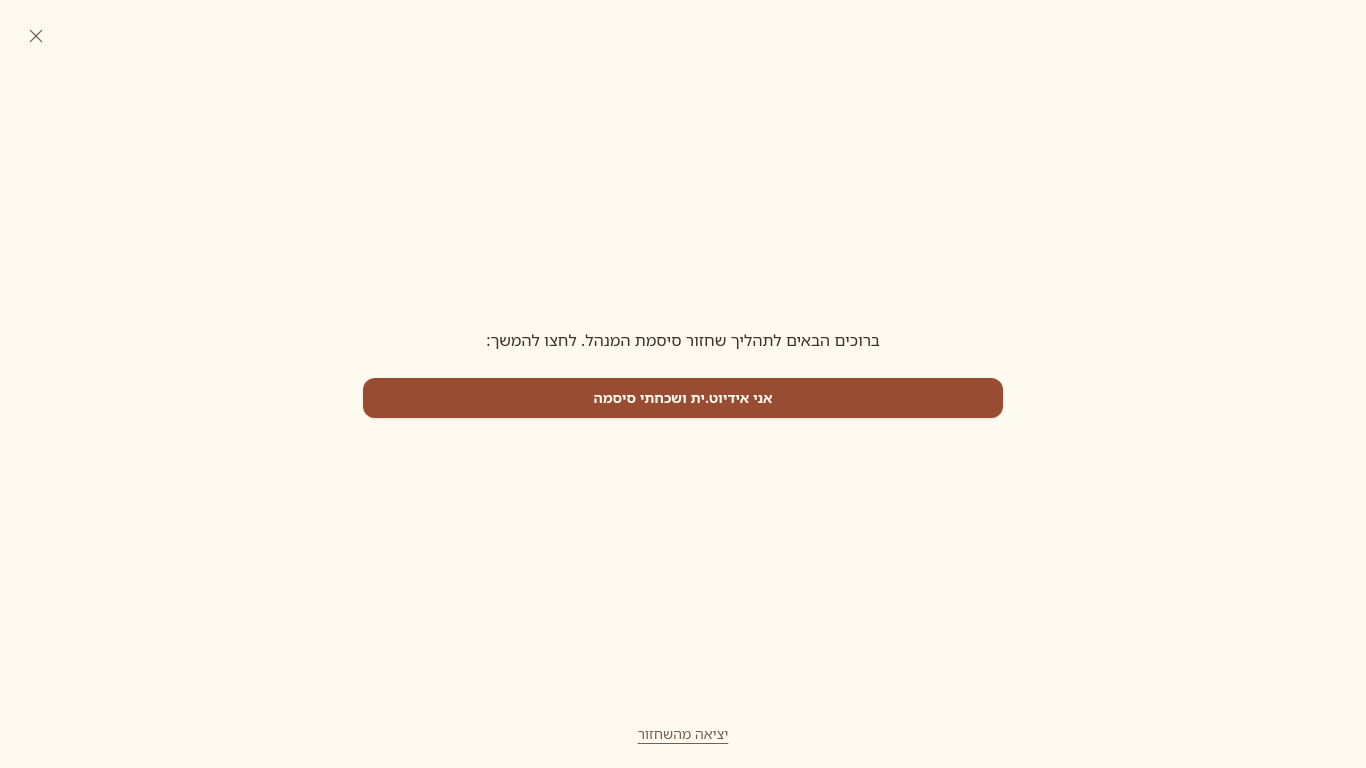
Test: interactive recovery › removes the subordinate before unmounting recovery and restores admin focus
Click the button "יציאה מהשחזור" at (683, 734), box left=622, top=712, right=744, bottom=756
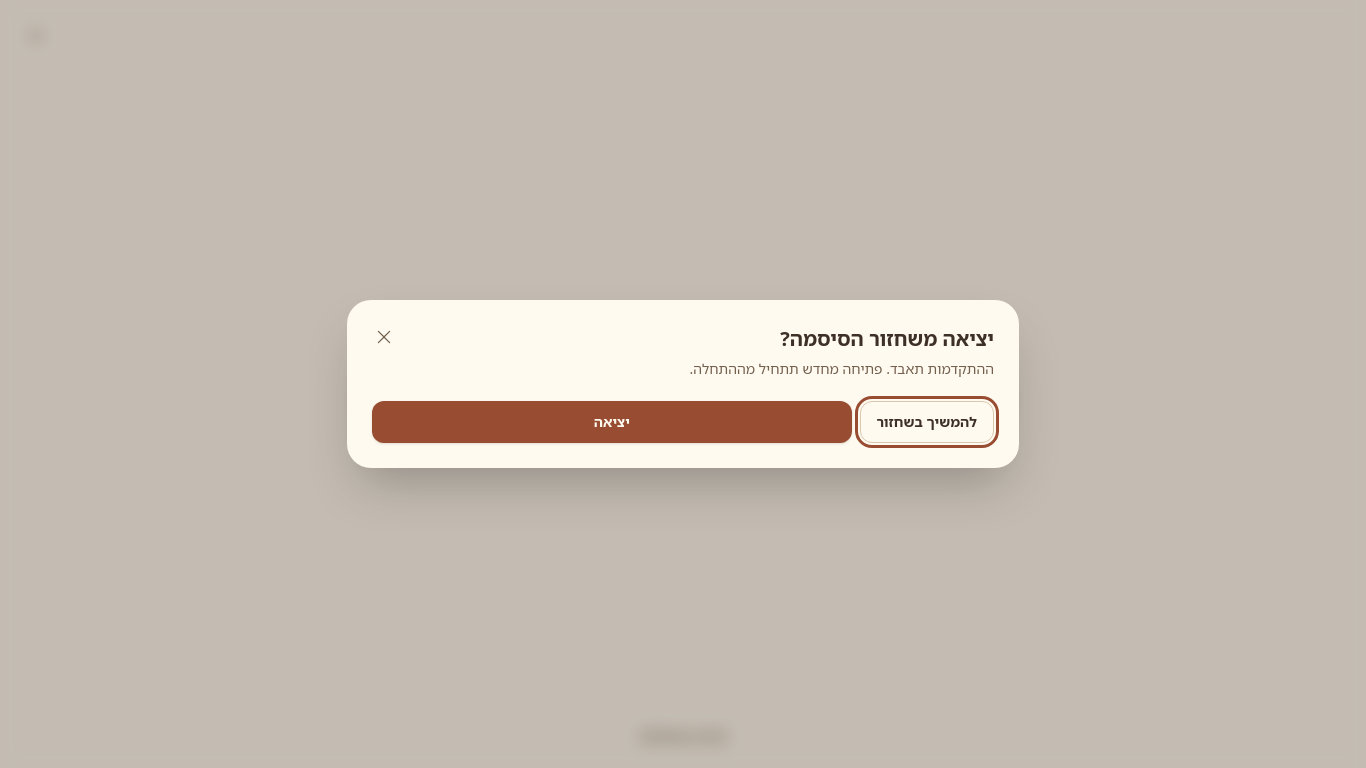
Click the button "יציאה" at (612, 422), box left=372, top=401, right=852, bottom=443
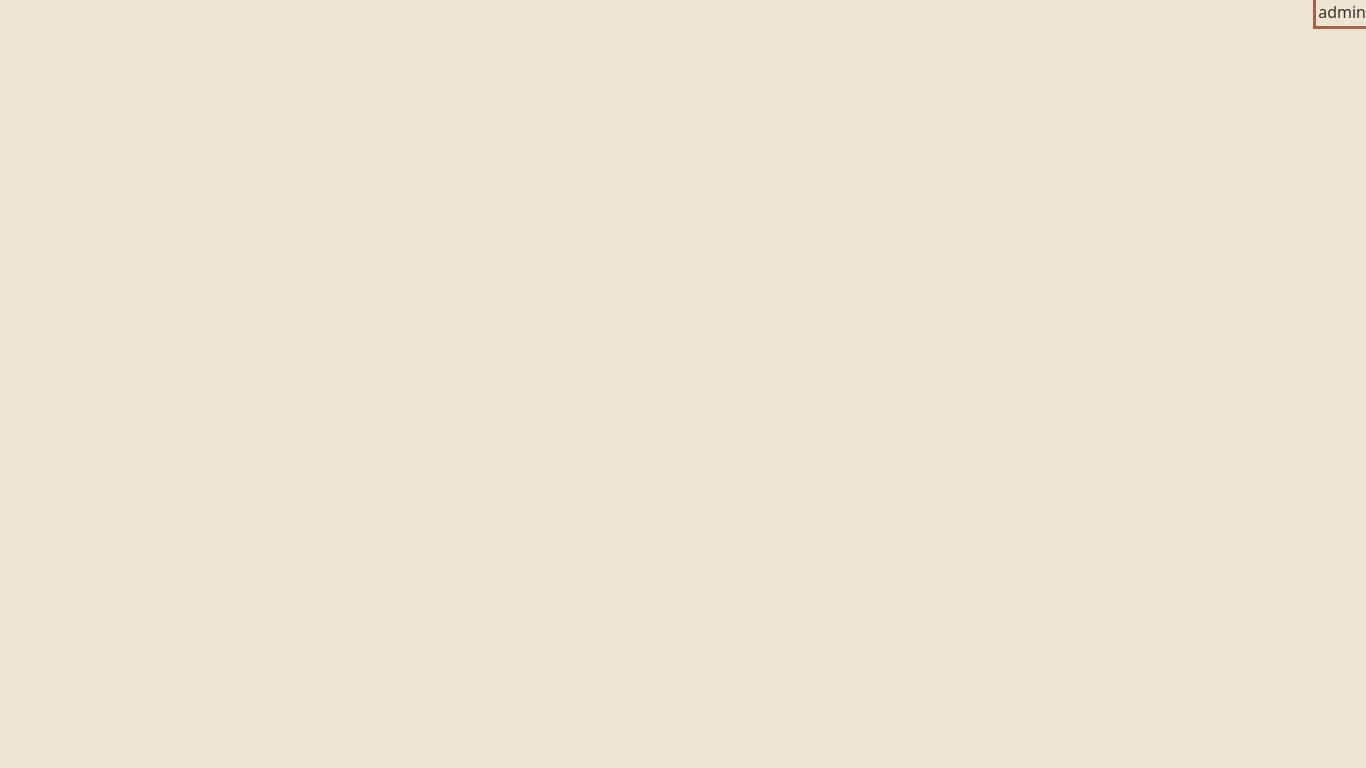
Result: the dialog is gone
